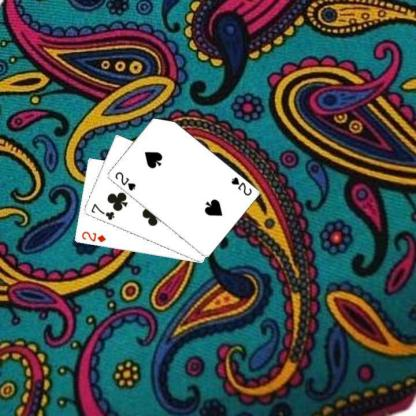2D: (79, 229, 107, 243)
2S: (112, 169, 137, 192), (228, 175, 253, 197)
7C: (88, 201, 116, 221)
